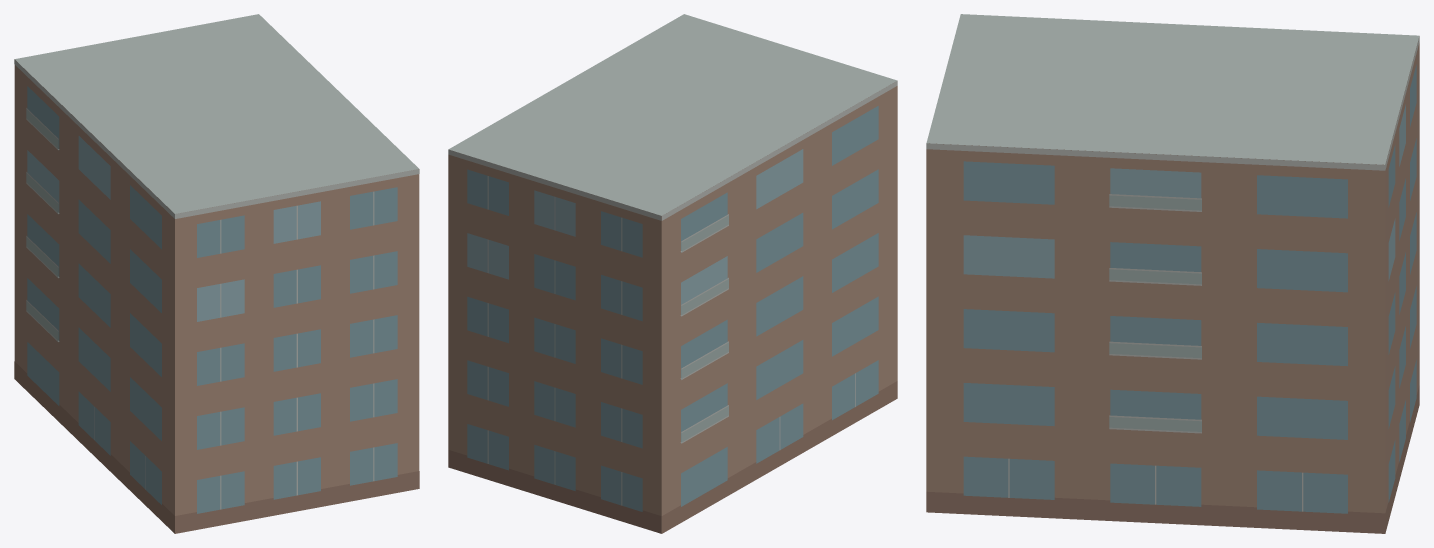
The model's file is survey-upis-32630046.glb.
3 renders of one model, left to right at view 1: azimuth 30°, elevation 25°; view 2: azimuth 150°, elevation 25°; view 3: azimuth 270°, elevation 25°, orthographic. The views are drawn at different scales.
Parts seen in each view (by area): view 1: survey-upis-32630046.tmp; view 2: survey-upis-32630046.tmp; view 3: survey-upis-32630046.tmp.
Part boxes in pixels (<box>): survey-upis-32630046.tmp: <box>14,14,419,533</box>; survey-upis-32630046.tmp: <box>448,14,897,533</box>; survey-upis-32630046.tmp: <box>926,14,1419,533</box>.
Size of the model in its own units: 13.38 by 15.25 by 18.48.
